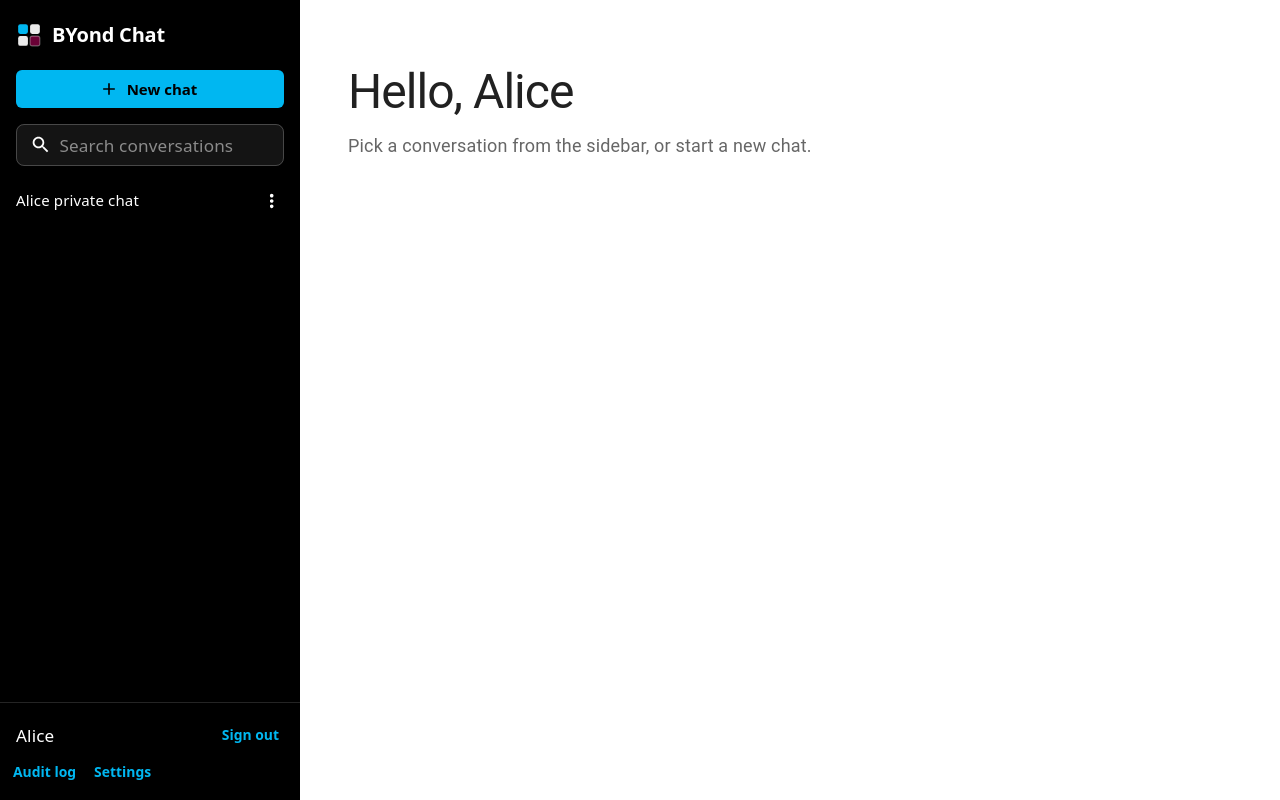
switching accounts in the same tab › never shows the previous user's conversations to the next user
Expected: the text "Alice private chat" is shown, left=16, top=190, right=139, bottom=210
Click the button "Sign out". click: (250, 736)
box: left=217, top=719, right=284, bottom=752
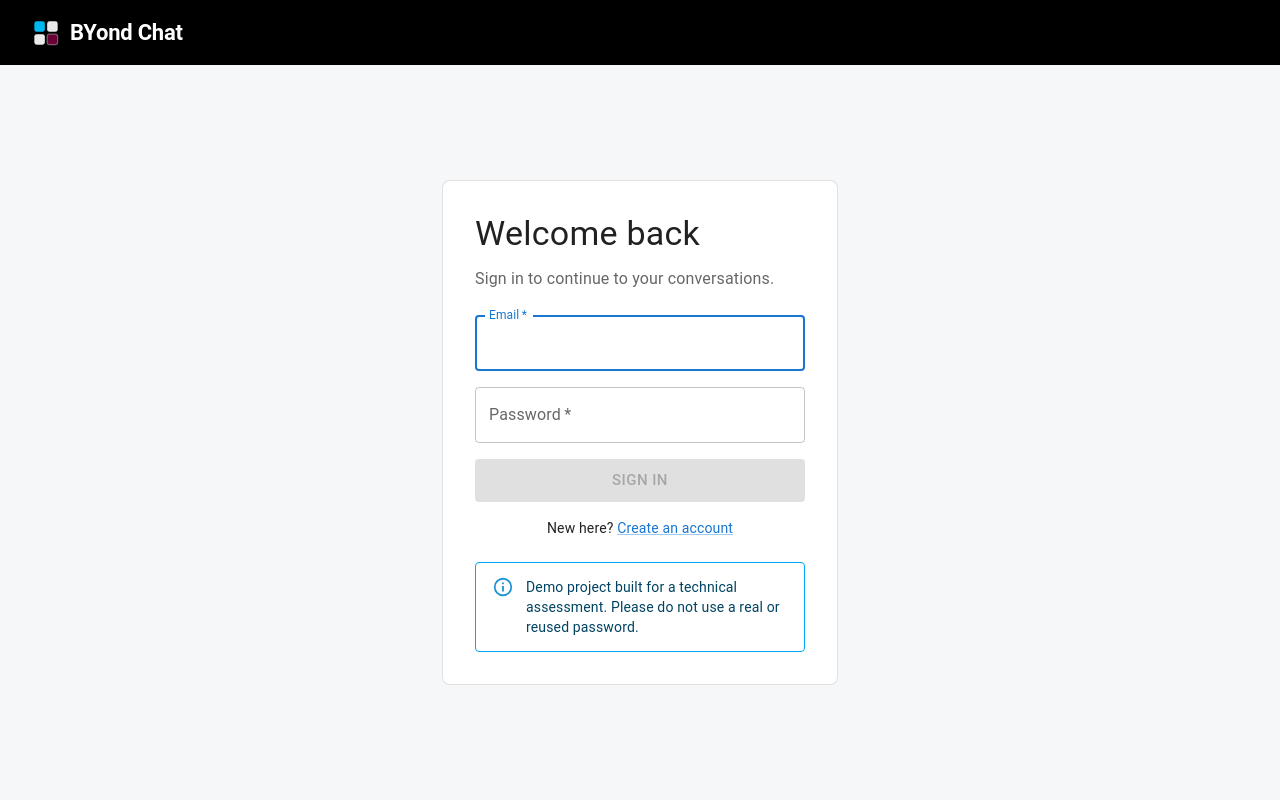
Type "bob@example.com" into the field labelled "Email *". click: (640, 343)
box: left=475, top=315, right=805, bottom=371
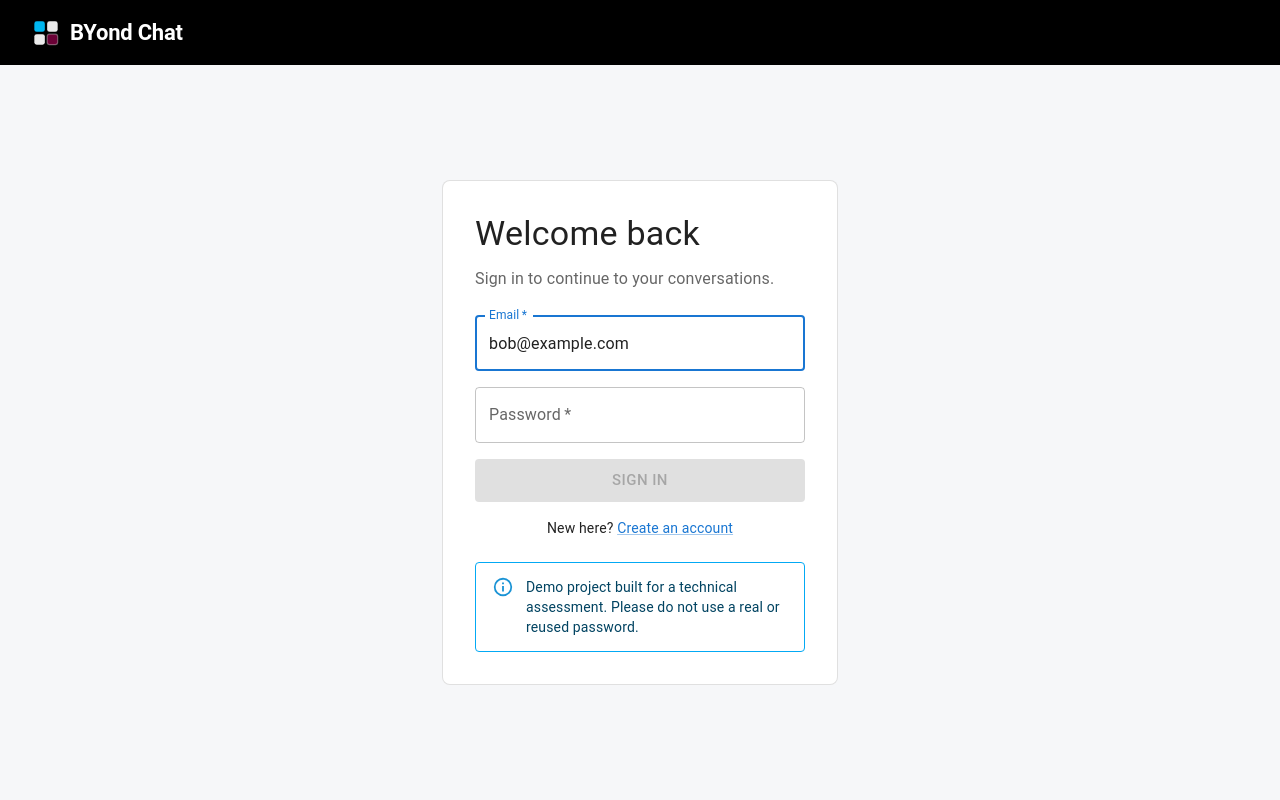
Type "bobs-long-password" into the password field labelled "Password *". click: (640, 415)
box: left=475, top=387, right=805, bottom=443
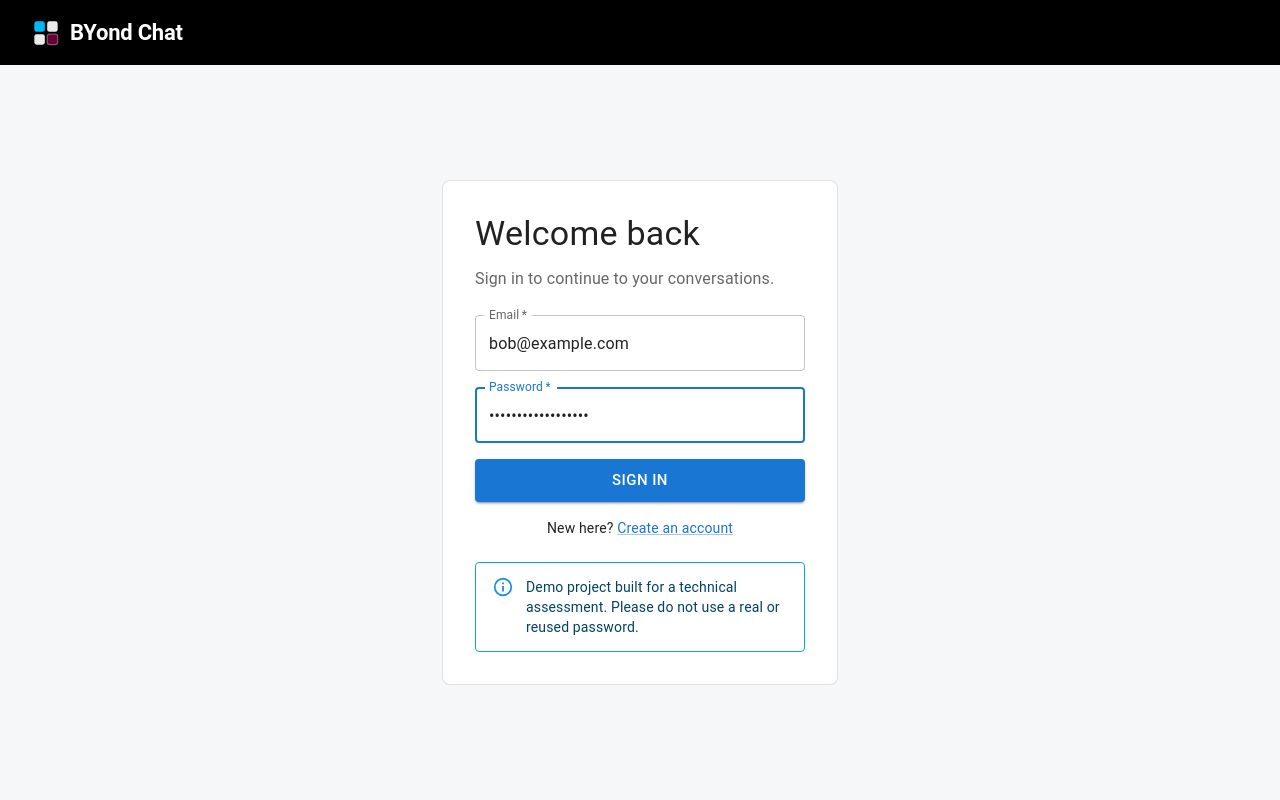
Click the button "Sign in". click: (640, 480)
box: left=475, top=459, right=805, bottom=502
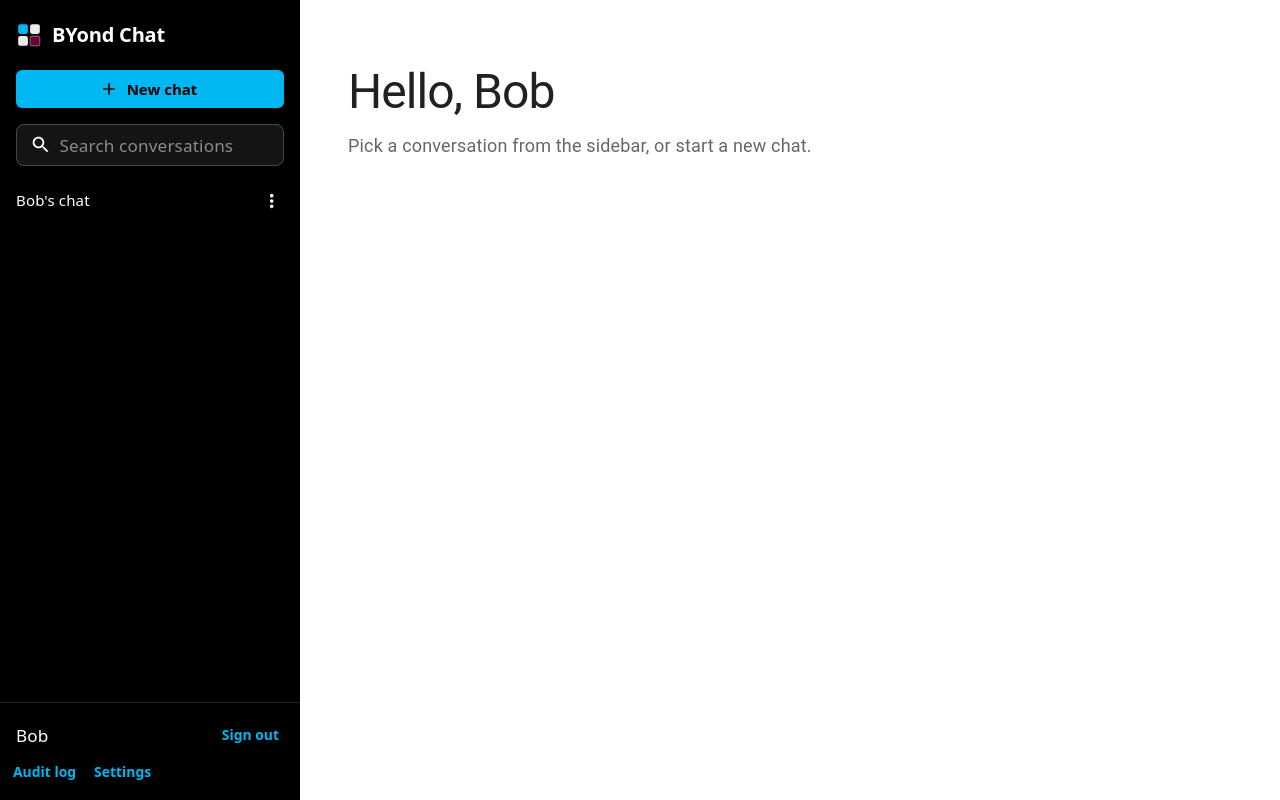
Expected: the button "Alice private chat" is not shown
Expected: the heading "Hello, Bob" is shown, left=348, top=63, right=554, bottom=120
Expected: the text "Bob's chat" is shown, left=16, top=190, right=90, bottom=210
